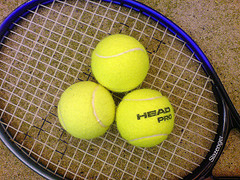tennis ball: (89, 32, 150, 92), (116, 88, 175, 149), (57, 80, 116, 141)
